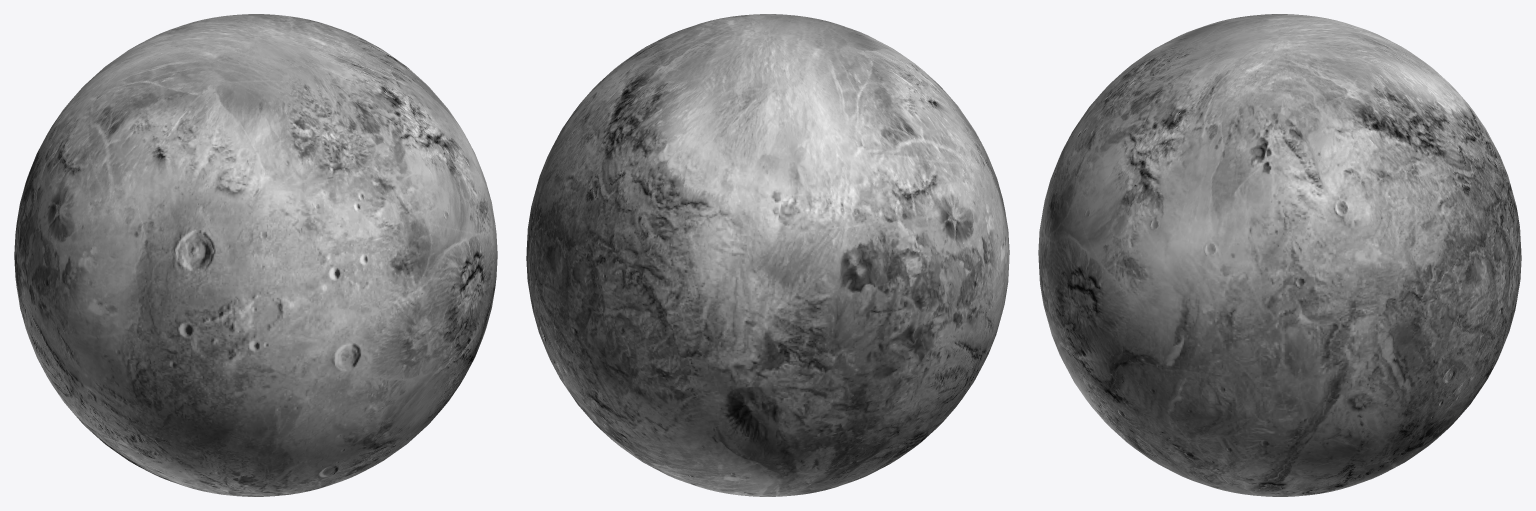
The model's file is pluto.glb.
3 renders of one model, left to right at view 1: azimuth 30°, elevation 25°; view 2: azimuth 150°, elevation 25°; view 3: azimuth 270°, elevation 25°, orthographic.
Parts seen in each view (by area): view 1: Sphere.001; view 2: Sphere.001; view 3: Sphere.001.
Boxes of the visible parts, x1,y1,x2,y2 form: Sphere.001: [14, 14, 497, 496]; Sphere.001: [526, 14, 1009, 496]; Sphere.001: [1038, 14, 1521, 496].
Bounding box in the file's own units: 2.02 × 2.02 × 2.02.
1 material, 1 textured.
